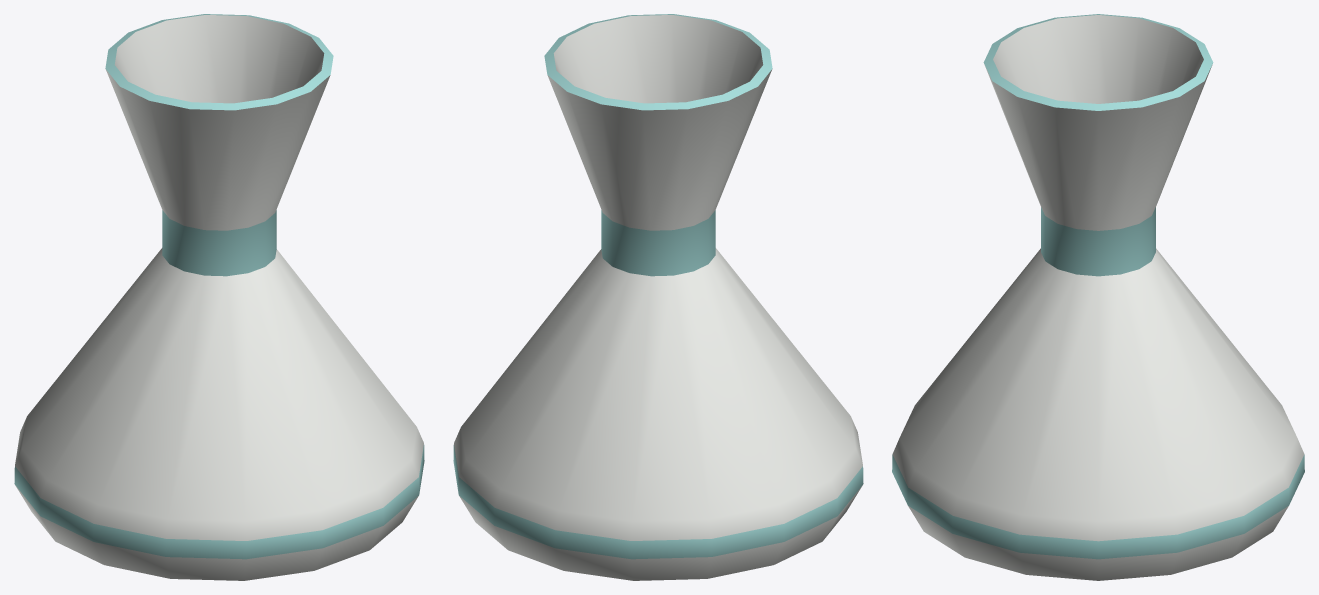
File: VasoBranco.fbx
3 views of the same model, side by side, from view 1: azimuth 30°, elevation 25°; view 2: azimuth 150°, elevation 25°; view 3: azimuth 270°, elevation 25° (orthographic).
Visible parts, largest first — view 1: VasoBranco; view 2: VasoBranco; view 3: VasoBranco.
Part boxes in pixels (<box>): VasoBranco: <box>14,14,424,580</box>; VasoBranco: <box>453,14,863,580</box>; VasoBranco: <box>892,14,1304,580</box>.
Size of the model in its own units: 0.2423 by 0.286 by 0.2423.
